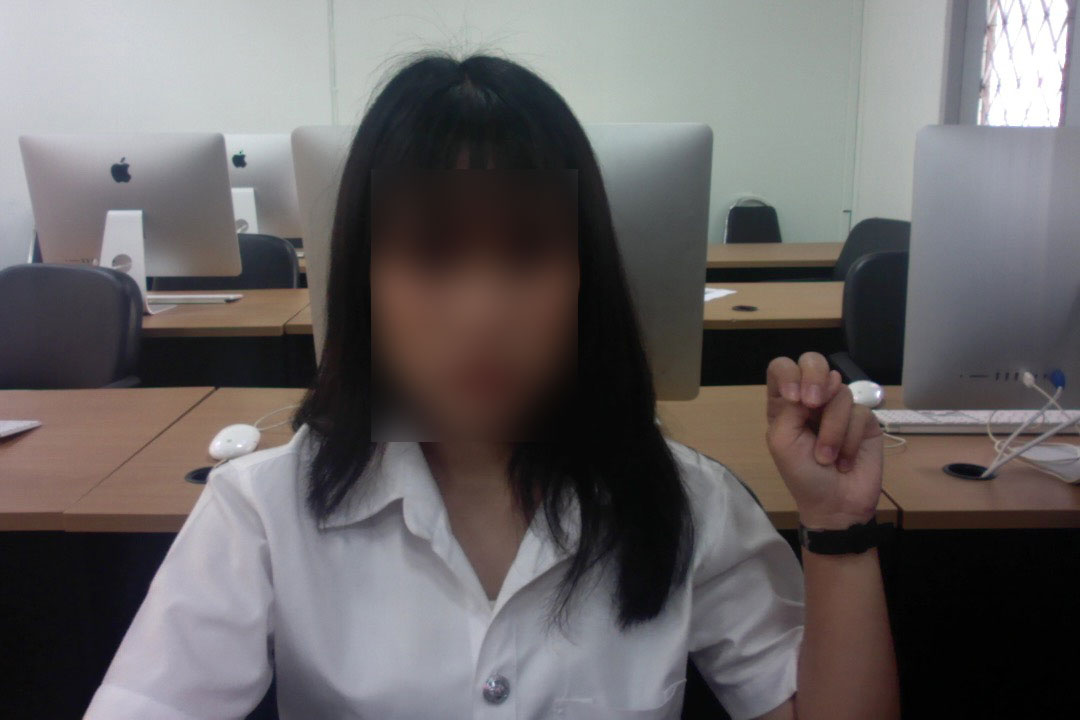nor: (759, 344, 887, 519)
